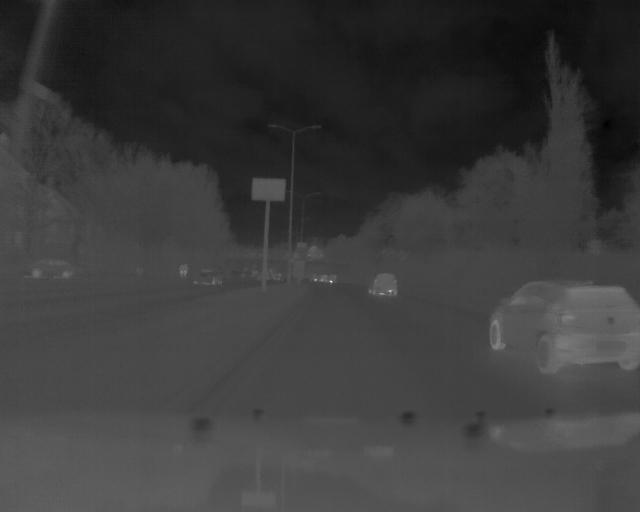car: (486, 277, 640, 375), (367, 271, 399, 297)
